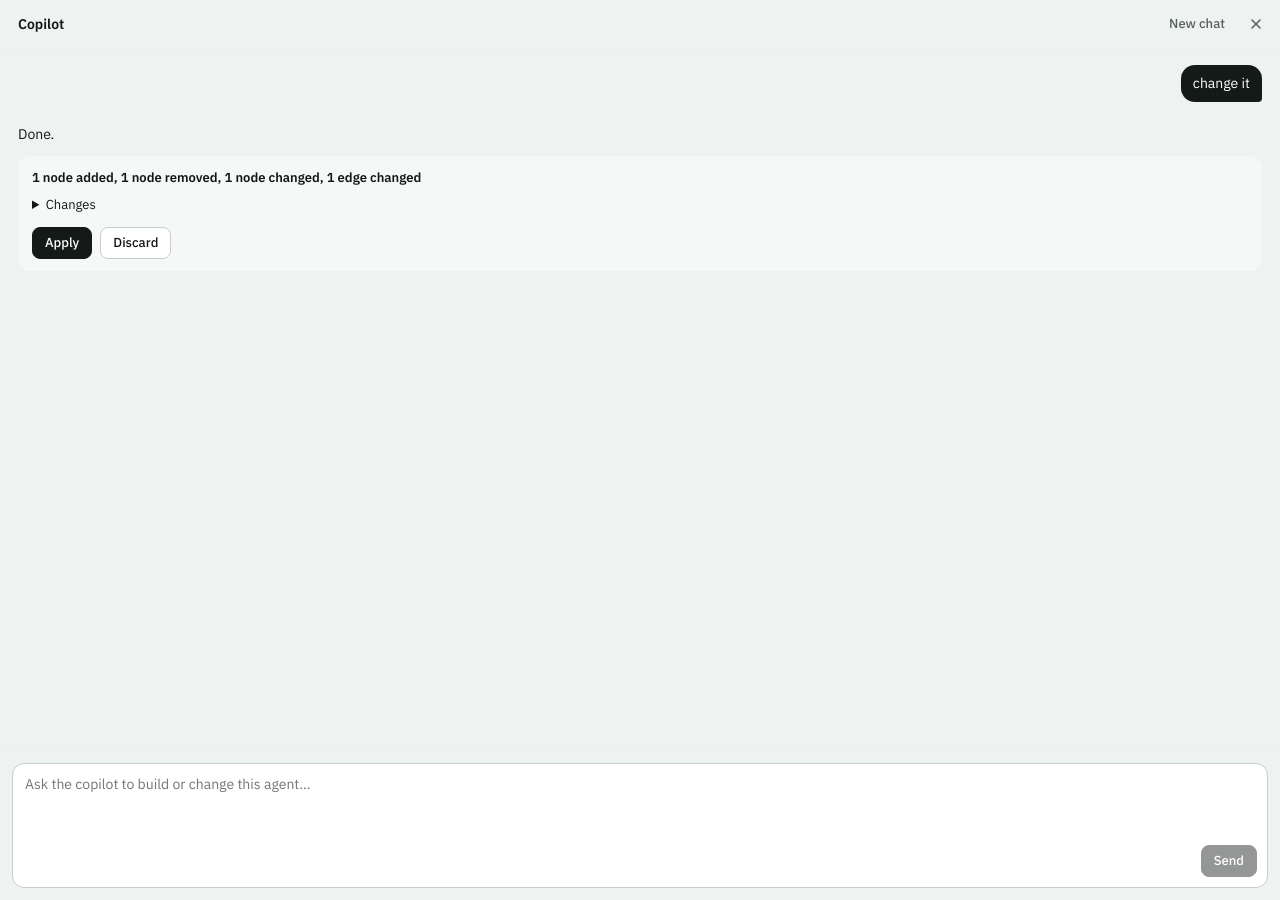
Test: ProposalCard › Apply replaces the agent as unsaved, keeps positions of kept nodes and marks the card applied
Click the button "Apply" at x=62, y=243, box x1=32 y1=227 x2=92 y2=259
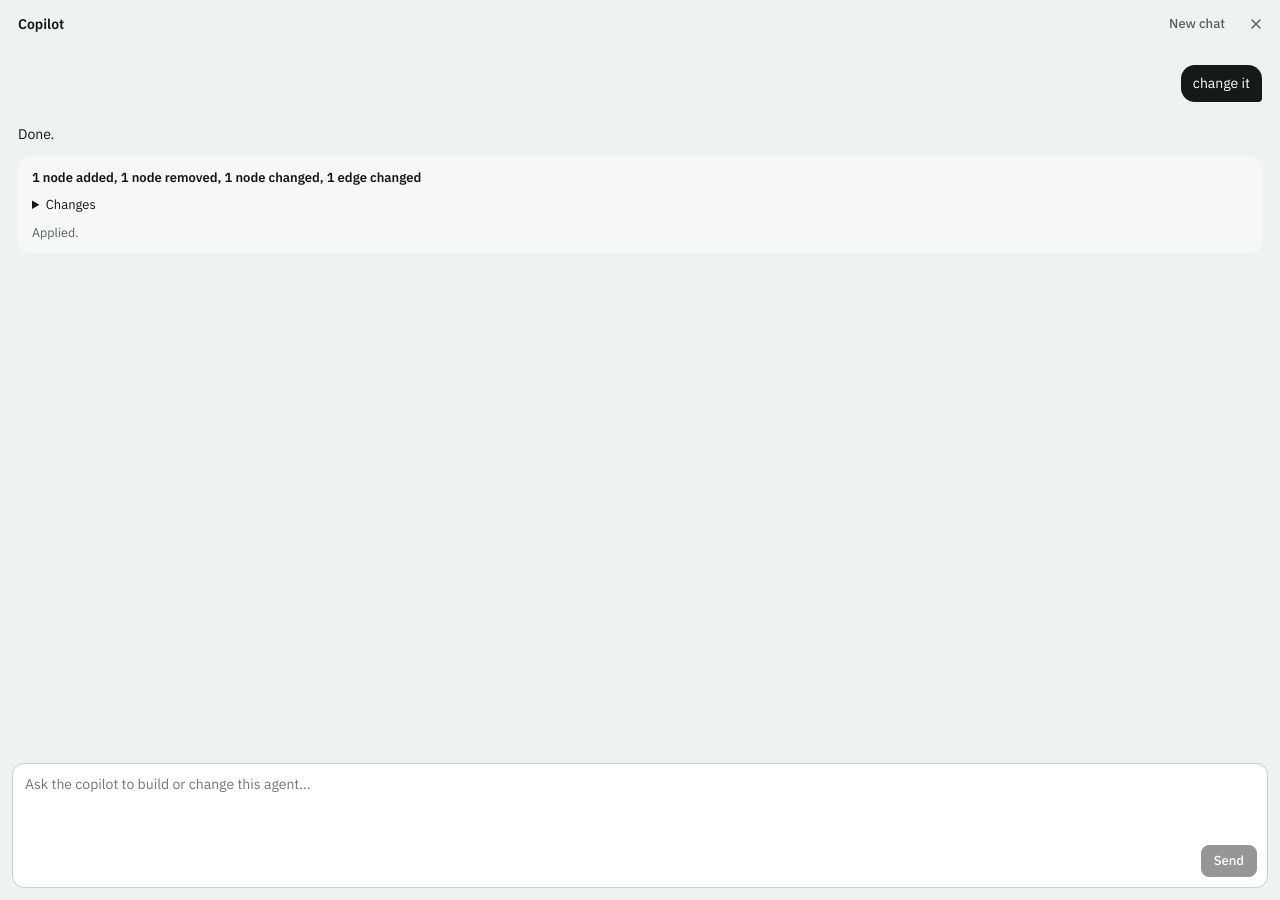
Now the text "Applied." is shown, box x1=32 y1=224 x2=79 y2=240
Now the button "Apply" is gone
